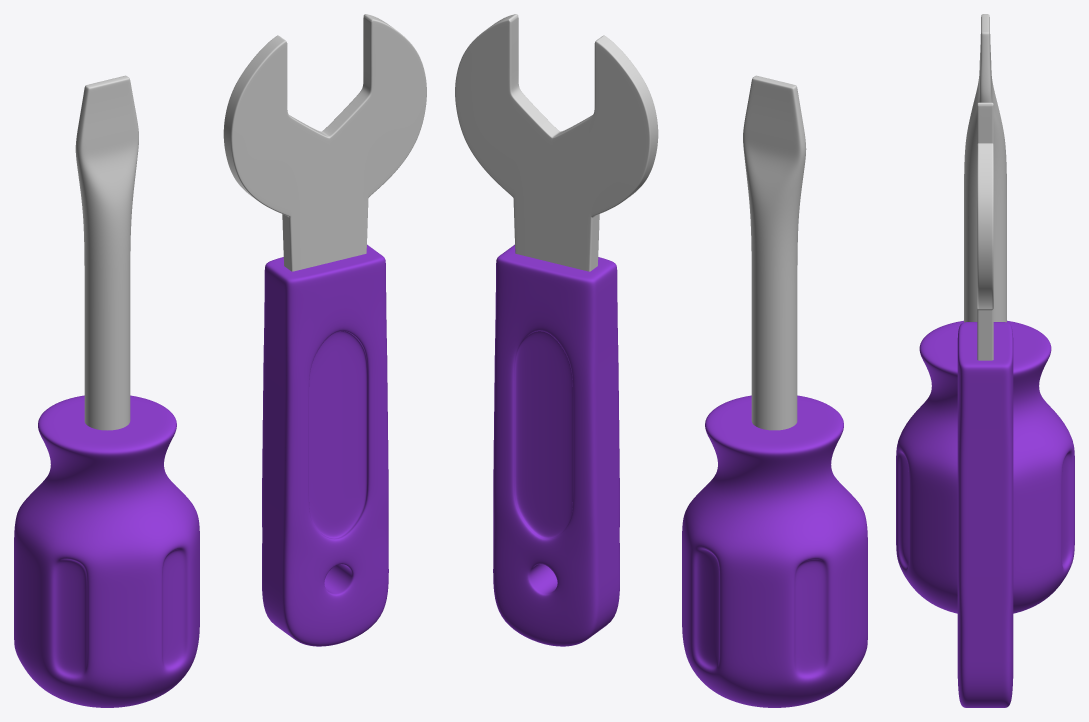
File: tools.fbx
The picture shows the model from 3 angles, left to right: view 1: azimuth 30°, elevation 25°; view 2: azimuth 150°, elevation 25°; view 3: azimuth 270°, elevation 25°; orthographic projection. The views are drawn at different scales.
Visible parts, largest first — view 1: Cylinder.012; view 2: Cylinder.012; view 3: Cylinder.012.
Boxes of the visible parts, <box> form: Cylinder.012: <box>14,14,426,707</box>; Cylinder.012: <box>455,14,867,707</box>; Cylinder.012: <box>896,14,1074,707</box>.
Bounding box in the file's own units: 131 × 194 × 54.27.
